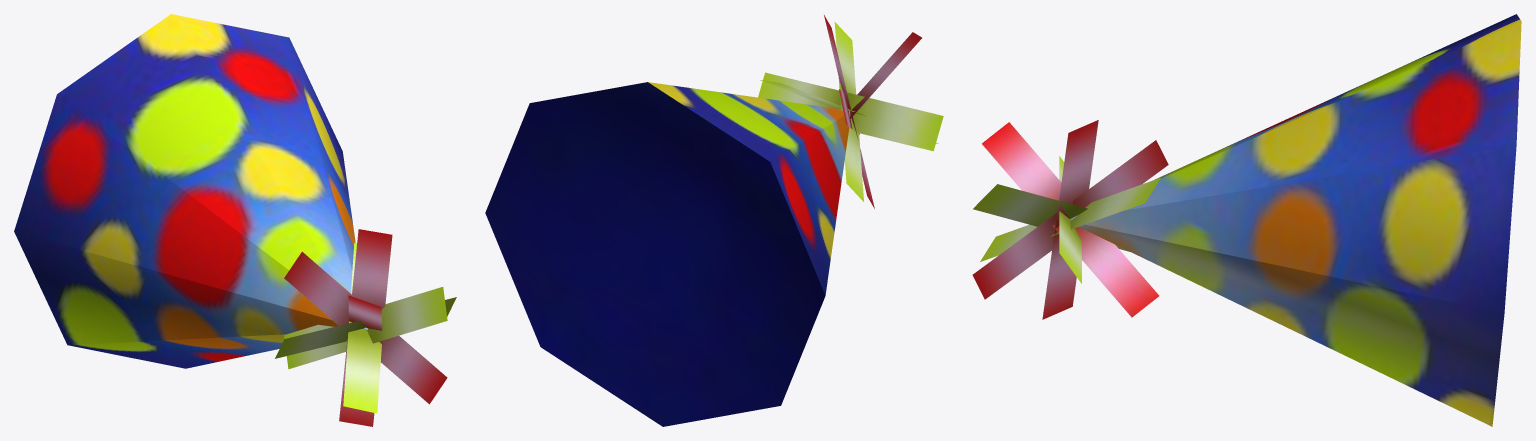
Rendered from tt_m_chr_avt_acc_hat_partyHat.glb.
3 renders of one model, left to right at view 1: azimuth 30°, elevation 25°; view 2: azimuth 150°, elevation 25°; view 3: azimuth 270°, elevation 25°, orthographic. The views are drawn at different scales.
Parts seen in each view (by area): view 1: partyHat; view 2: partyHat; view 3: partyHat.
Part boxes in pixels (x1,y1,x2,y2): partyHat: (14, 14, 456, 426); partyHat: (485, 15, 943, 426); partyHat: (972, 14, 1521, 426).
Bounding box in the file's own units: 2.6 × 2.6 × 3.25.
1 material, 1 textured.
